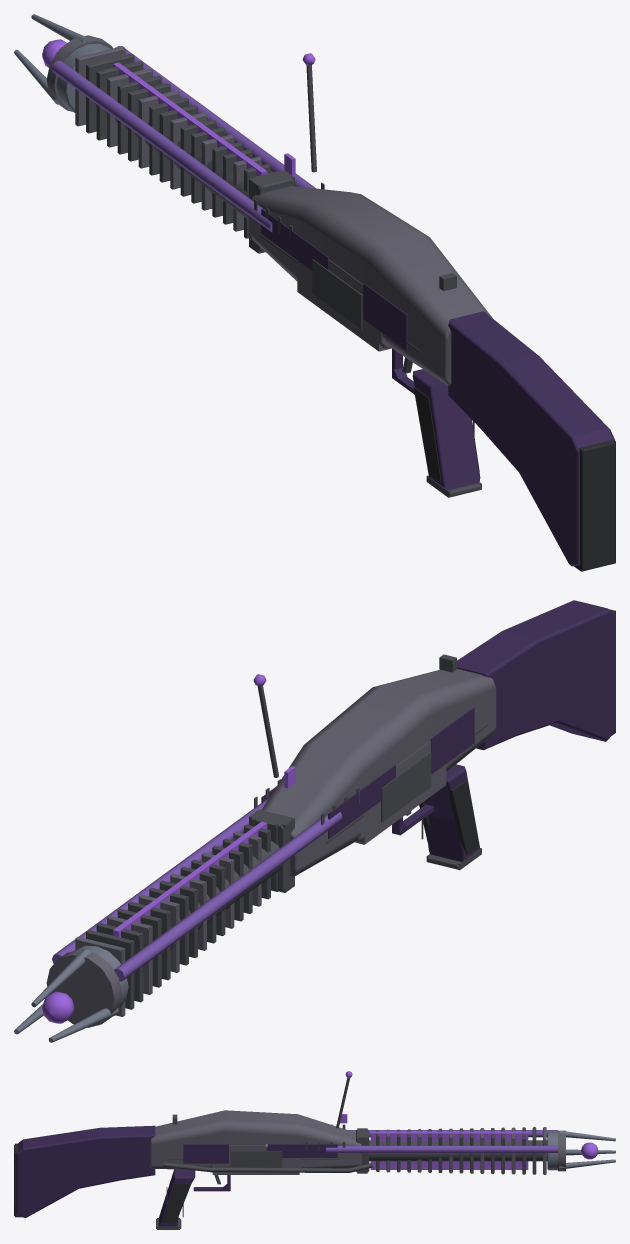
The model's file is q_decoh.glb.
The picture shows the model from 3 angles, top to bottom: view 1: azimuth 30°, elevation 25°; view 2: azimuth 150°, elevation 25°; view 3: azimuth 270°, elevation 25°; orthographic projection. The views are drawn at different scales.
Parts seen in each view (by area): view 1: L0, L1; view 2: L0, L1; view 3: L0, L1.
Boxes of the visible parts, <box> form: L0: <box>14,14,615,570</box>; L1: <box>15,14,615,571</box>; L0: <box>14,600,615,1042</box>; L1: <box>14,610,615,1041</box>; L0: <box>14,1071,615,1228</box>; L1: <box>15,1071,615,1229</box>.
Size of the model in its own units: 0.0847 by 0.3047 by 1.04.
